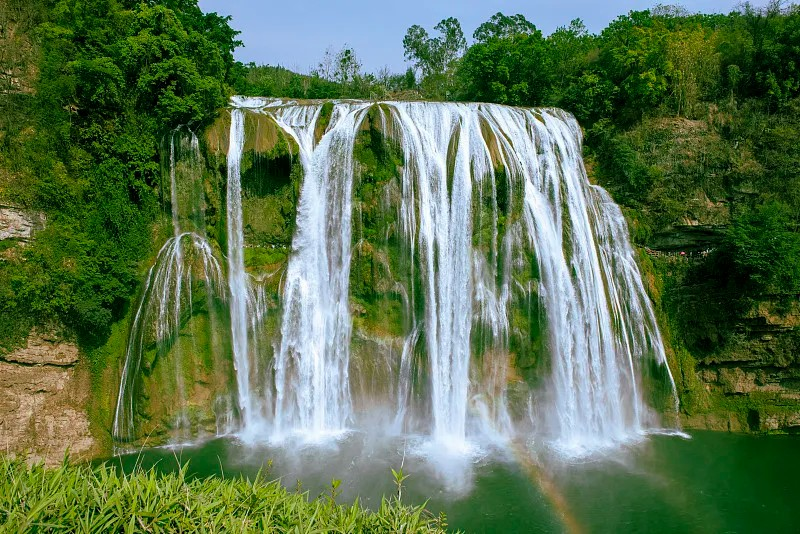Huangguoshu: (113, 96, 680, 452)
